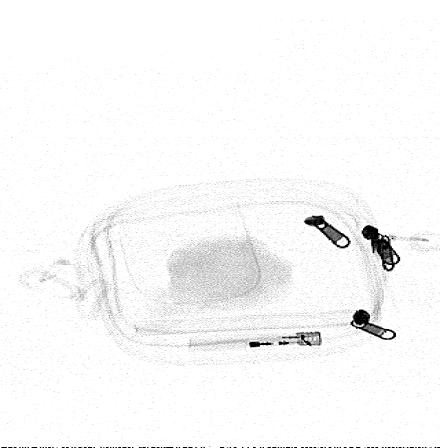Lighter: (188, 331, 323, 349)
